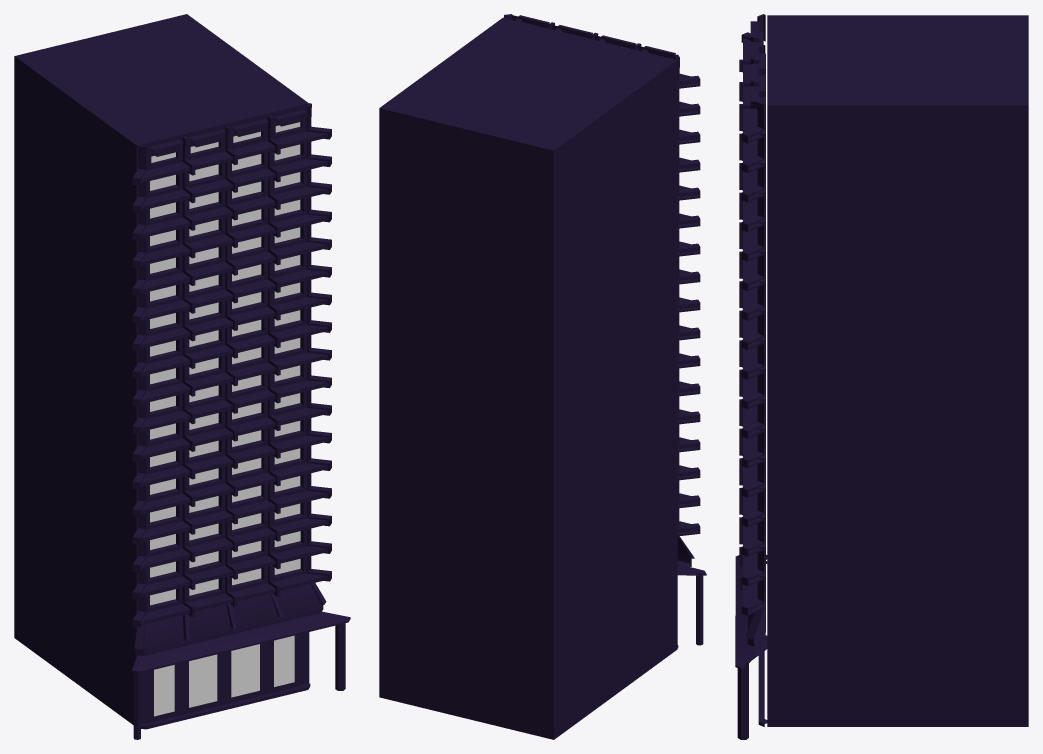
Rendered from building_07.gltf.
The picture shows the model from 3 angles, left to right: view 1: azimuth 30°, elevation 25°; view 2: azimuth 150°, elevation 25°; view 3: azimuth 270°, elevation 25°; orthographic projection. The views are drawn at different scales.
Parts seen in each view (by area): view 1: building_07; view 2: building_07; view 3: building_07.
Part boxes in pixels (<box>): building_07: <box>14,14,350,739</box>; building_07: <box>379,14,706,739</box>; building_07: <box>735,14,1028,739</box>.
Size of the model in its own units: 2.15 by 5.49 by 2.34.
